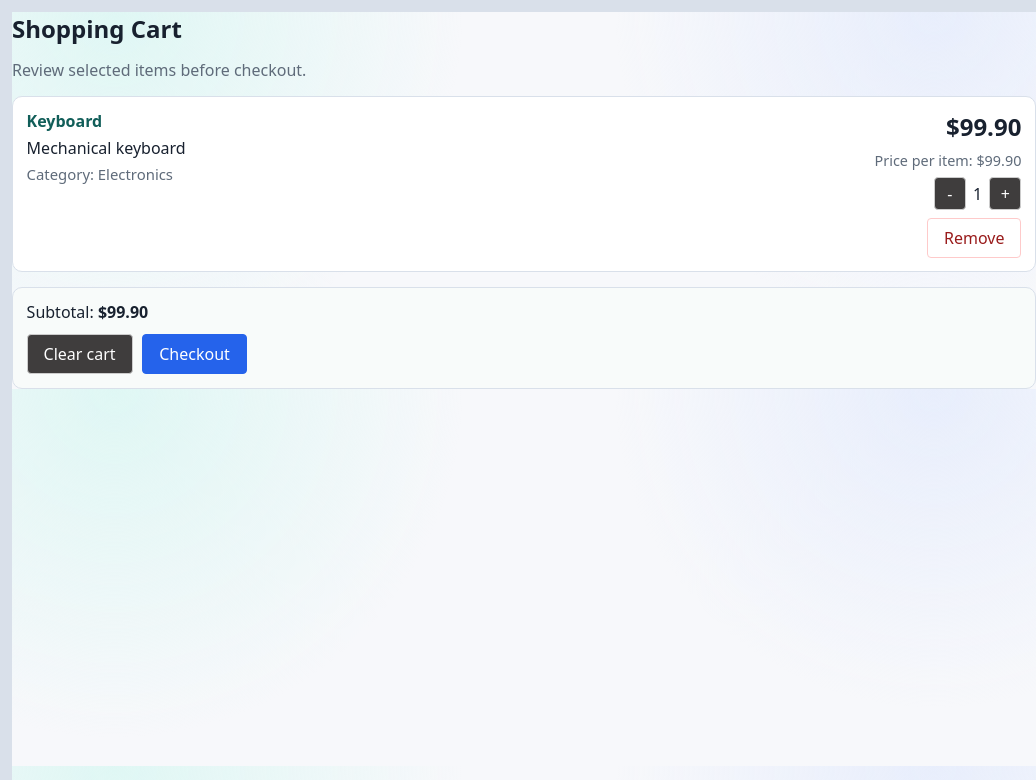
CartPage › increments a cart item through the cart API
Click the button "+" at {"x": 1005, "y": 194}, box [989,177,1021,210]
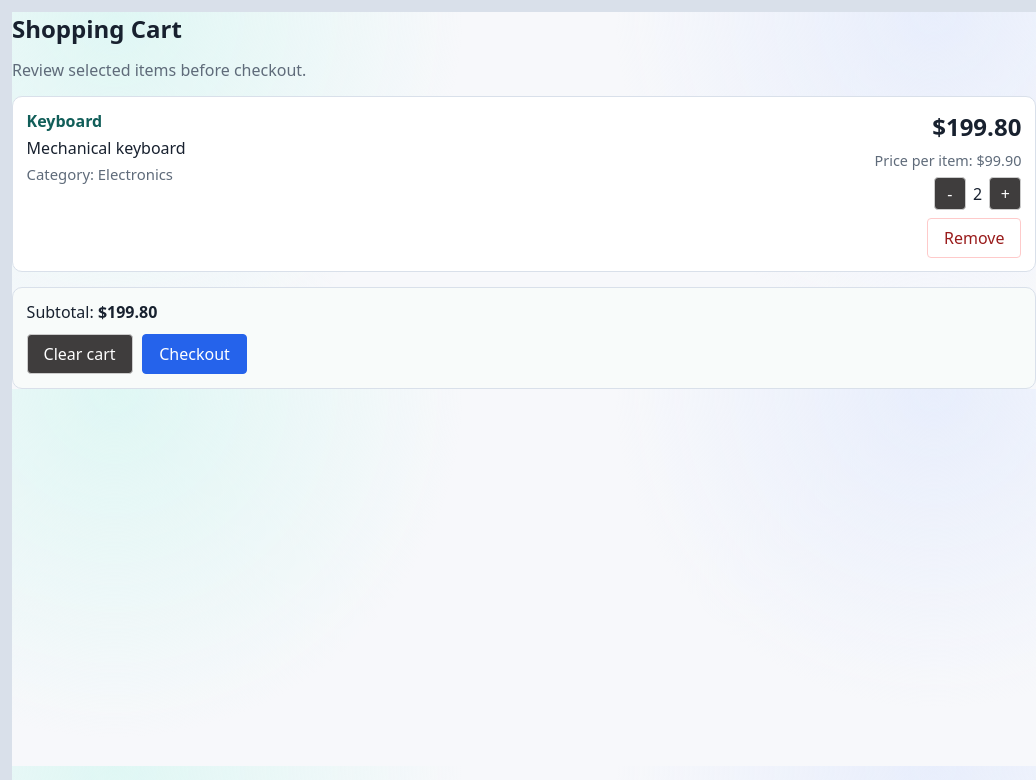
Expected: the text "2" is shown, [973,182,982,204]
Expected: the text "$199.80" next to "Subtotal:" is shown, [98,301,157,323]
